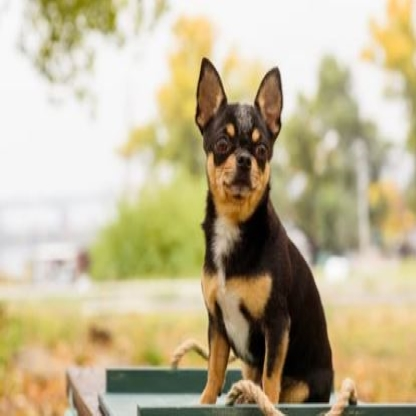chihuahua: (189, 56, 336, 403)
